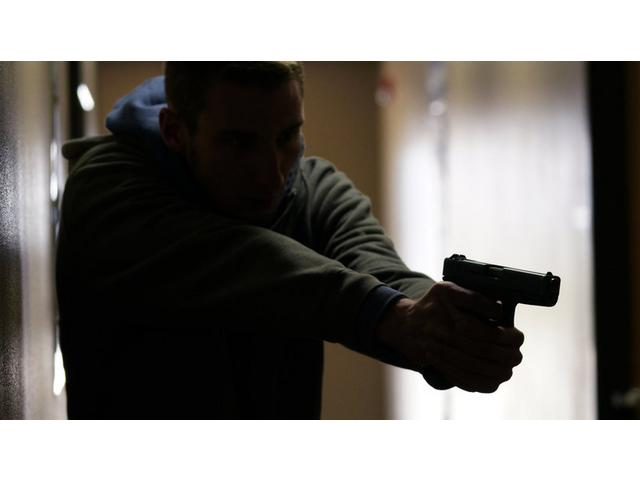pistol: (433, 253, 564, 401)
